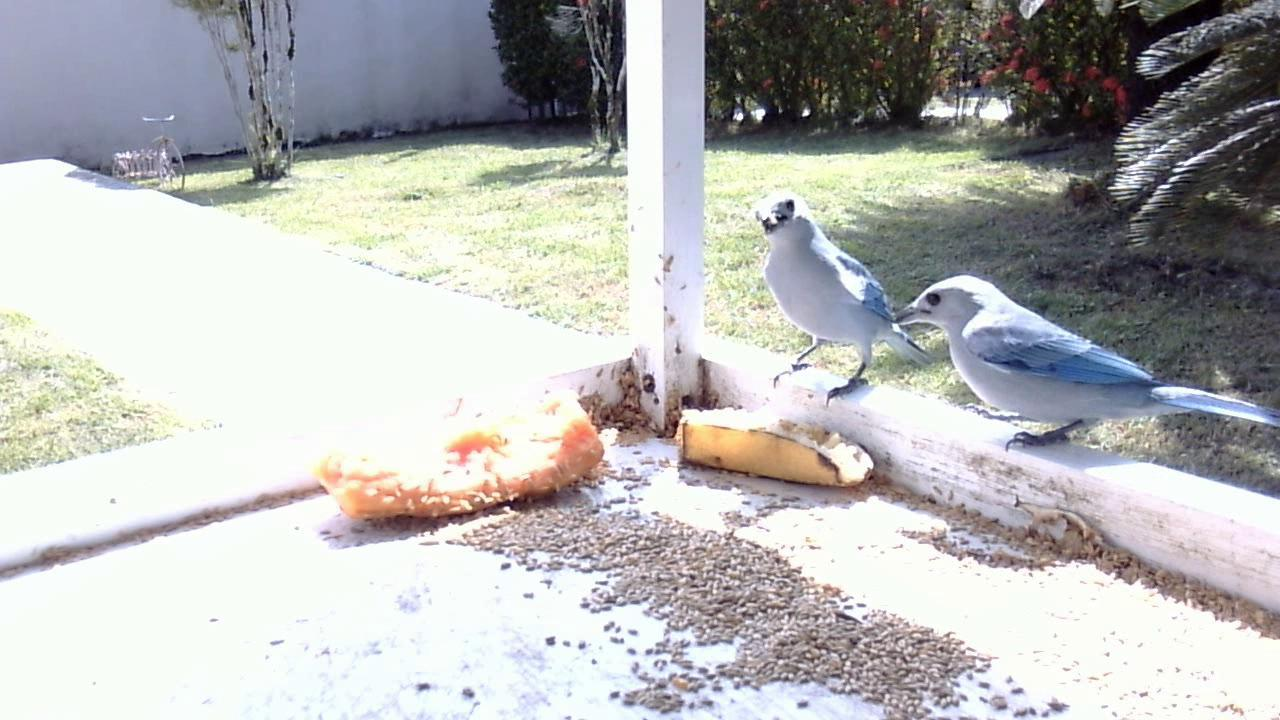sanhaco_da_amazonia: (896, 258, 1278, 469), (745, 189, 942, 415)
